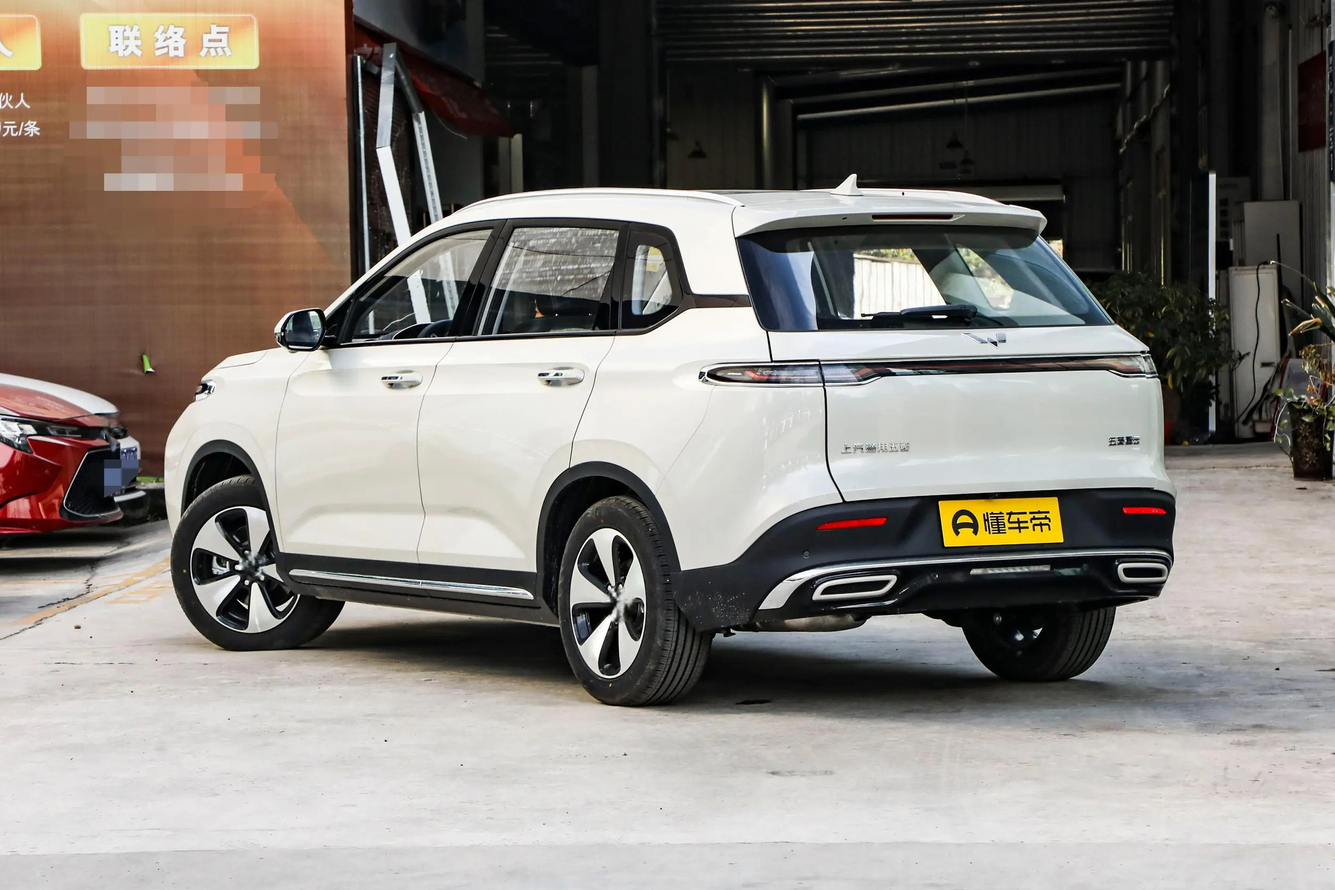SGMW: (961, 332, 1006, 347)
